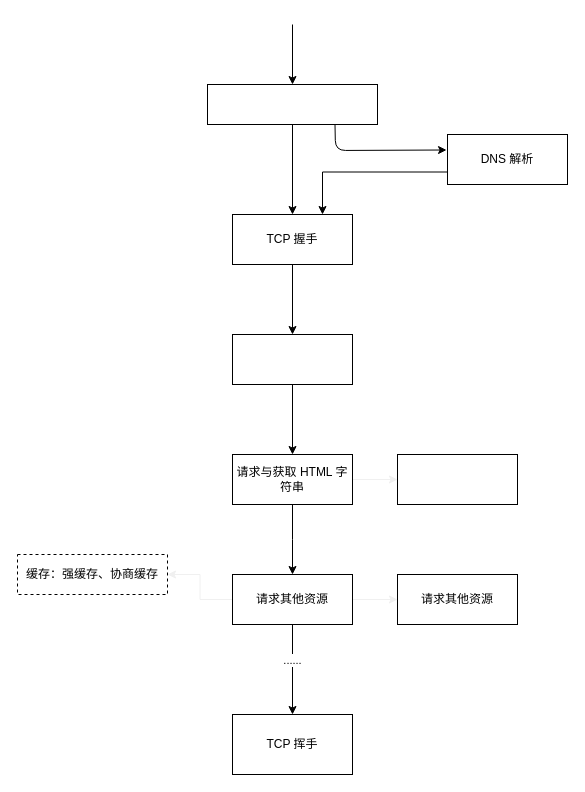
This 585x792 diagram has some shape labels left out. Each missing label, with the centre of its shape:
TLS/SSL 握手: the point at 292,359
URL 解析：编码非英文字符: the point at 292,104
词法解析、语法解析构建 DOM、CSSOM: the point at 457,479
